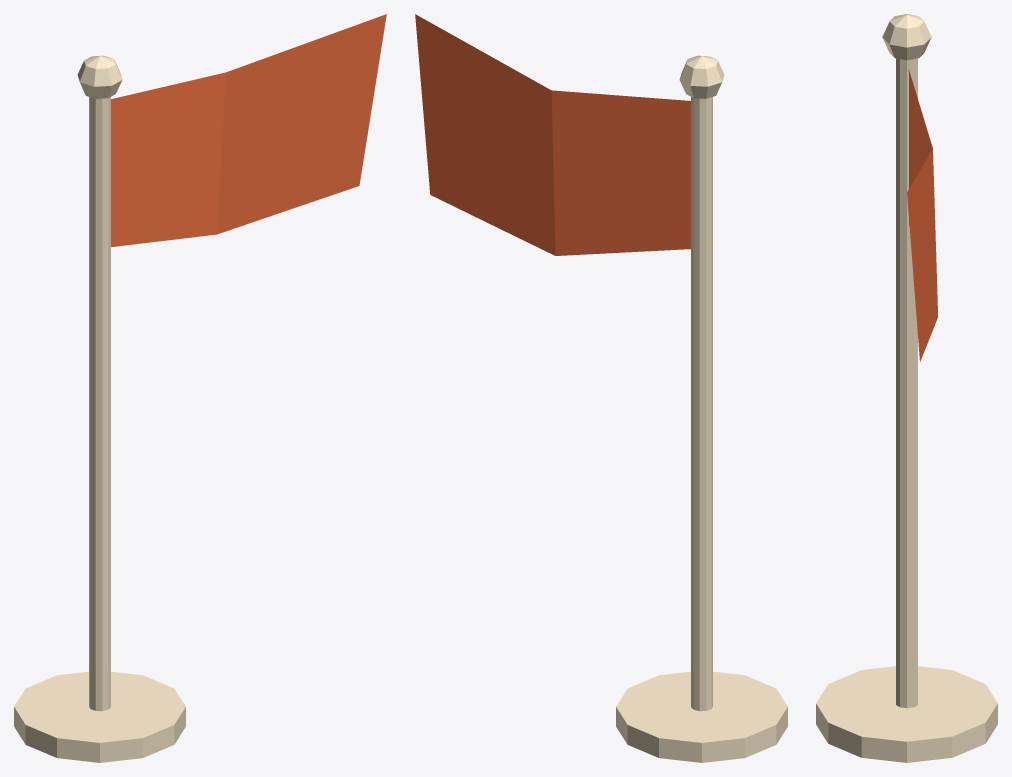
The model's file is Street_Red_Flag.glb.
3 renders of one model, left to right at view 1: azimuth 30°, elevation 25°; view 2: azimuth 150°, elevation 25°; view 3: azimuth 270°, elevation 25°, orthographic. The views are drawn at different scales.
Parts seen in each view (by area): view 1: Street_Red_Flag; view 2: Street_Red_Flag; view 3: Street_Red_Flag.
Boxes of the visible parts, x1,y1,x2,y2 form: Street_Red_Flag: [14, 14, 386, 762]; Street_Red_Flag: [415, 14, 787, 762]; Street_Red_Flag: [816, 14, 997, 762].
Size of the model in its own units: 1.7 by 3.02 by 0.7001.
